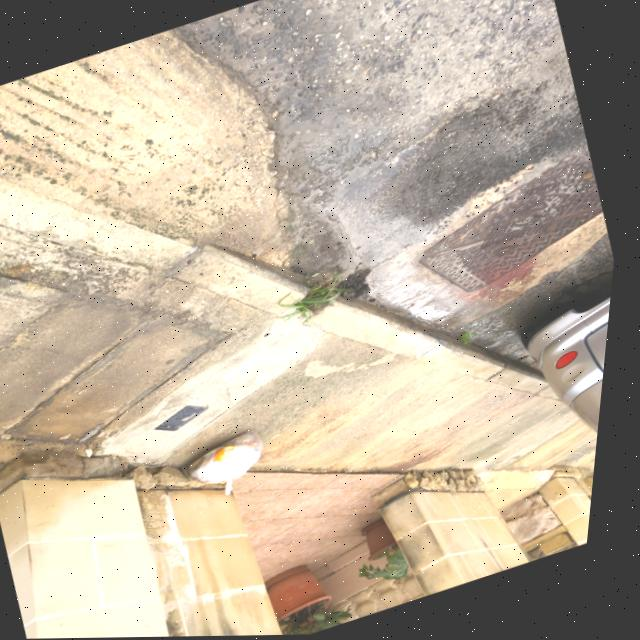Organic Waste -White Bag-: (189, 429, 285, 507)
